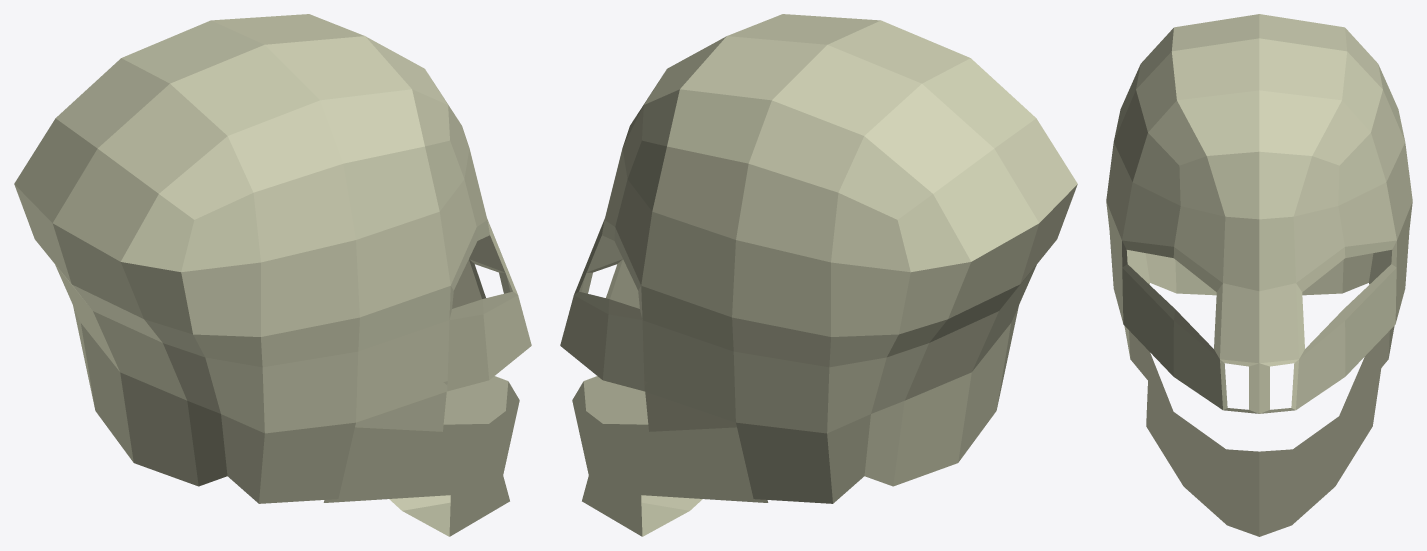
File: skull.fbx
The picture shows the model from 3 angles, left to right: view 1: azimuth 30°, elevation 25°; view 2: azimuth 150°, elevation 25°; view 3: azimuth 270°, elevation 25°; orthographic projection. The views are drawn at different scales.
Visible parts, largest first — view 1: Cube.008; view 2: Cube.008; view 3: Cube.008.
Boxes of the visible parts, box(x1,y1,x2,y2) form: Cube.008: box(14, 14, 531, 536); Cube.008: box(560, 14, 1077, 536); Cube.008: box(1106, 14, 1412, 536).
Size of the model in its own units: 126 by 178 by 185.
